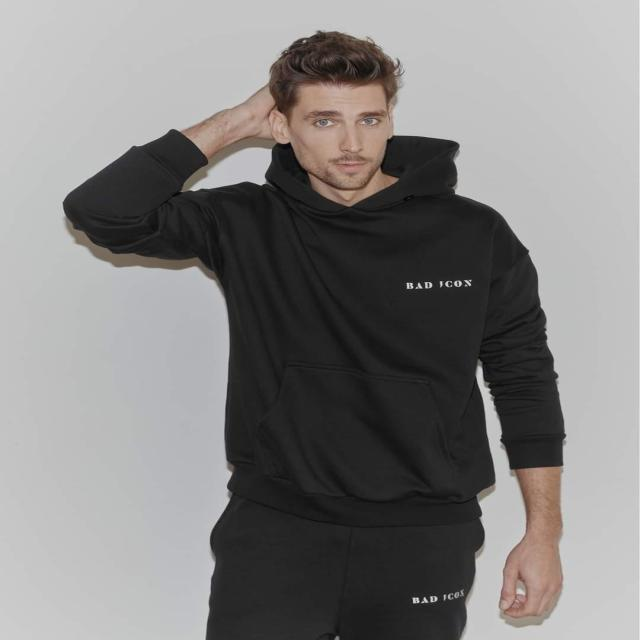Standing: (55, 24, 578, 640)
